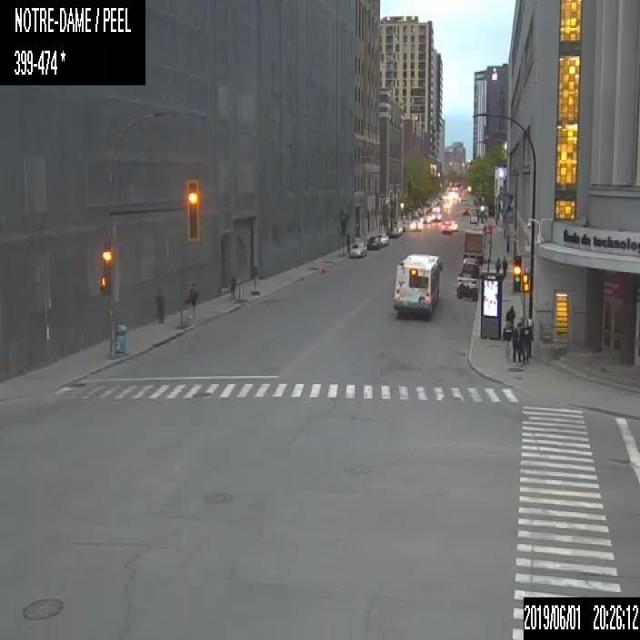bus: (392, 251, 442, 317)
construction: (318, 253, 325, 276)
pedestrian: (522, 319, 533, 364), (501, 320, 512, 363), (512, 320, 521, 363), (188, 281, 196, 320), (156, 288, 164, 323), (229, 273, 236, 300), (505, 304, 515, 321), (501, 253, 507, 278), (494, 255, 499, 276), (505, 234, 510, 254), (345, 232, 349, 253)
vehicle: (463, 227, 485, 261), (455, 282, 480, 299), (457, 267, 477, 288), (348, 239, 367, 257), (462, 254, 479, 272), (366, 235, 381, 250), (388, 223, 403, 237), (440, 218, 453, 234), (409, 216, 422, 230), (448, 215, 458, 232), (377, 231, 388, 246), (469, 213, 477, 223)
